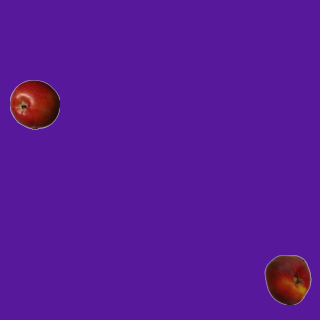Apple Braeburn: (9, 79, 59, 129)
Nectarine Flat: (262, 254, 312, 304)
